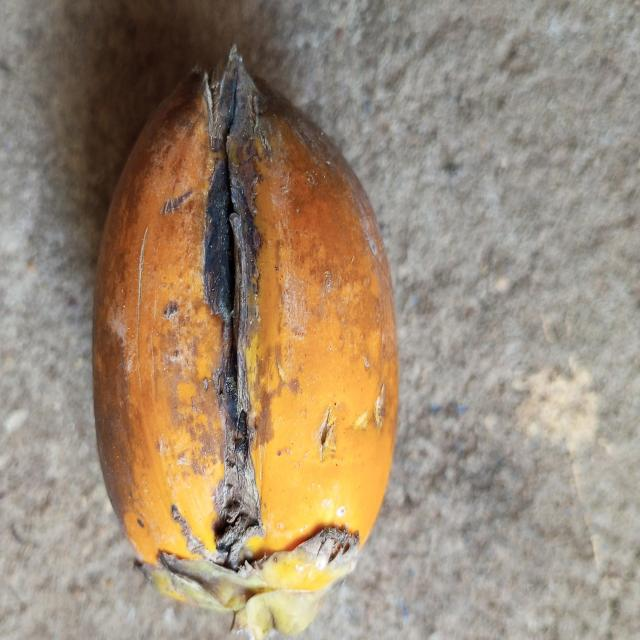damaged: (91, 49, 400, 640)
